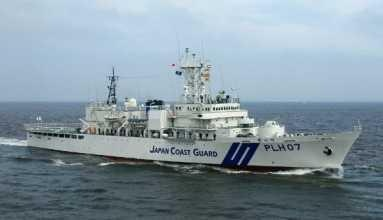warship: (6, 53, 362, 168)
